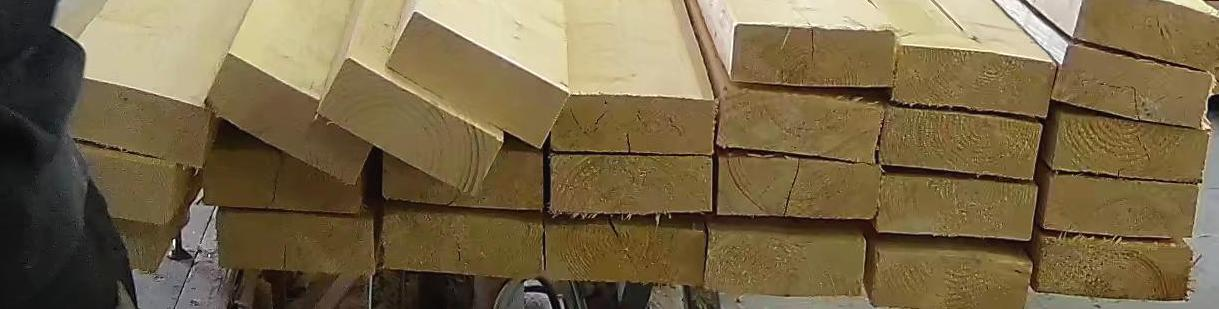Wood-Plank: (317, 57, 503, 195), (385, 12, 575, 147), (203, 52, 378, 184), (28, 75, 220, 169), (1054, 41, 1215, 126), (887, 43, 1058, 118), (25, 145, 174, 230), (718, 87, 885, 161), (881, 104, 1044, 178), (381, 202, 543, 276), (1032, 228, 1195, 300), (381, 140, 546, 209), (876, 171, 1040, 239), (546, 93, 719, 155), (708, 227, 865, 295), (216, 207, 373, 274), (1069, 0, 1219, 70), (204, 147, 365, 212), (717, 155, 882, 218), (1054, 114, 1207, 181), (549, 152, 713, 214), (735, 23, 896, 86), (1042, 177, 1200, 241), (545, 225, 704, 286), (875, 247, 1030, 307)
